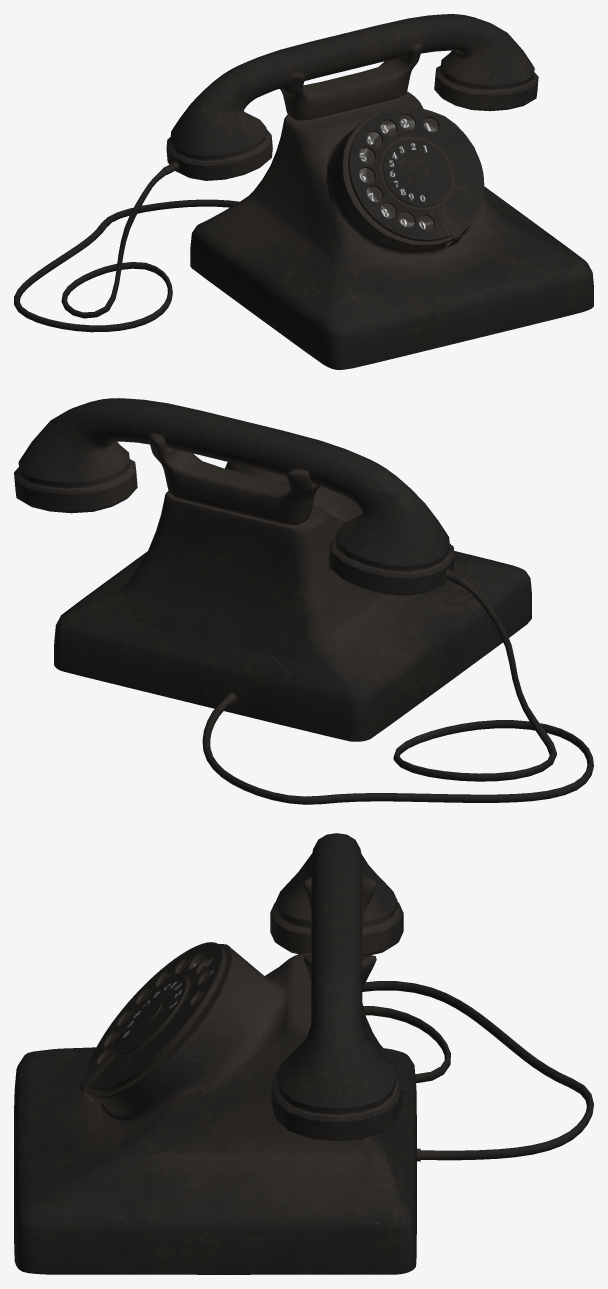
Rendered from old_phone.glb.
3 renders of one model, top to bottom at view 1: azimuth 30°, elevation 25°; view 2: azimuth 150°, elevation 25°; view 3: azimuth 270°, elevation 25°, orthographic. The views are drawn at different scales.
Parts seen in each view (by area): view 1: Phone_001; view 2: Phone_001; view 3: Phone_001.
Boxes of the visible parts, <box> form: Phone_001: <box>14,14,593,369</box>; Phone_001: <box>14,398,593,804</box>; Phone_001: <box>14,833,593,1274</box>.
Bounding box in the file's own units: 0.3 × 0.1278 × 0.2284.
1 material, 1 textured.
